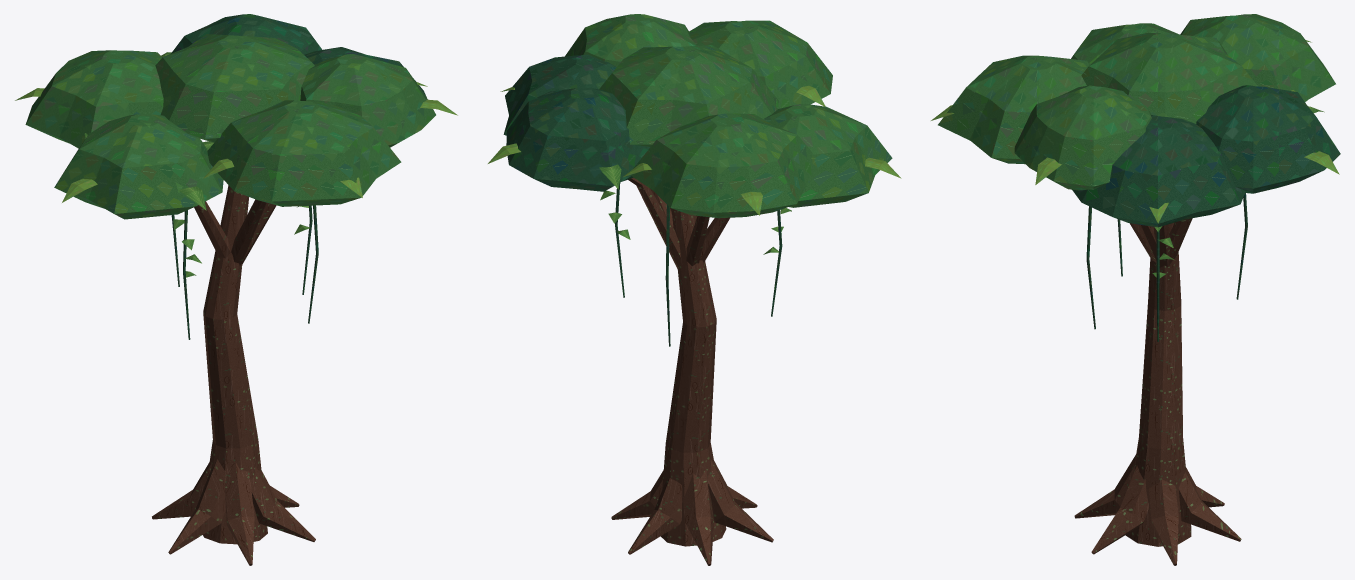
The model's file is tree0.glb.
3 views of the same model, side by side, from view 1: azimuth 30°, elevation 25°; view 2: azimuth 150°, elevation 25°; view 3: azimuth 270°, elevation 25° (orthographic). The views are drawn at different scales.
Visible parts, largest first — view 1: SculptedTrunk; view 2: SculptedTrunk; view 3: SculptedTrunk.
Part boxes in pixels (box(x1,y1,x2,y2)): SculptedTrunk: box(15, 14, 457, 565); SculptedTrunk: box(488, 14, 901, 565); SculptedTrunk: box(931, 14, 1340, 565).
Size of the model in its own units: 6.25 by 7.51 by 5.65.
Materials: 5 (5 with a texture image).
